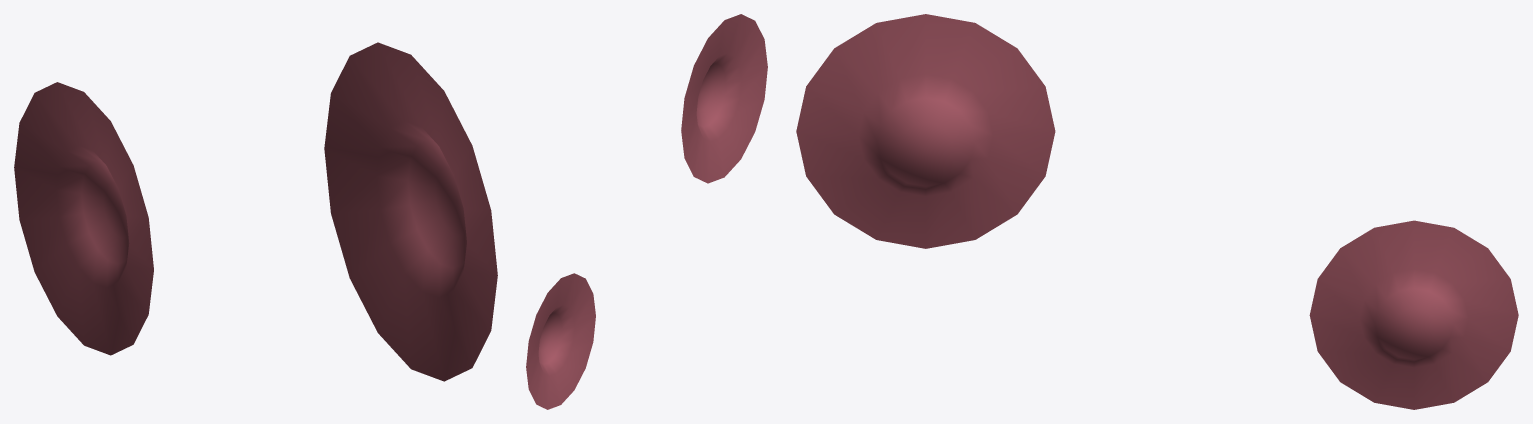
Rendered from gorros.fbx.
3 views of the same model, side by side, from view 1: azimuth 30°, elevation 25°; view 2: azimuth 150°, elevation 25°; view 3: azimuth 270°, elevation 25° (orthographic). The views are drawn at different scales.
Visible parts, largest first — view 1: pCylinder9; view 2: pCylinder9; view 3: pCylinder9.
Part boxes in pixels (<box>): pCylinder9: <box>14,42,497,381</box>; pCylinder9: <box>526,14,767,409</box>; pCylinder9: <box>796,14,1518,409</box>.
Bounding box in the file's own units: 0.1284 × 2.32 × 1.4.
